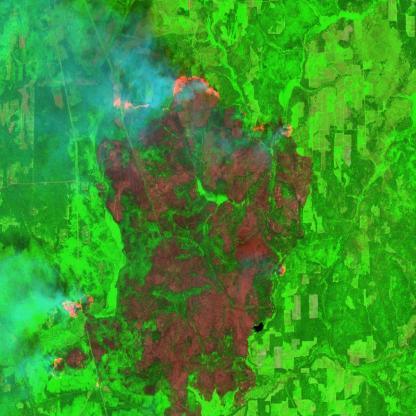fire: (108, 70, 294, 141), (52, 292, 97, 374), (273, 254, 290, 282)
